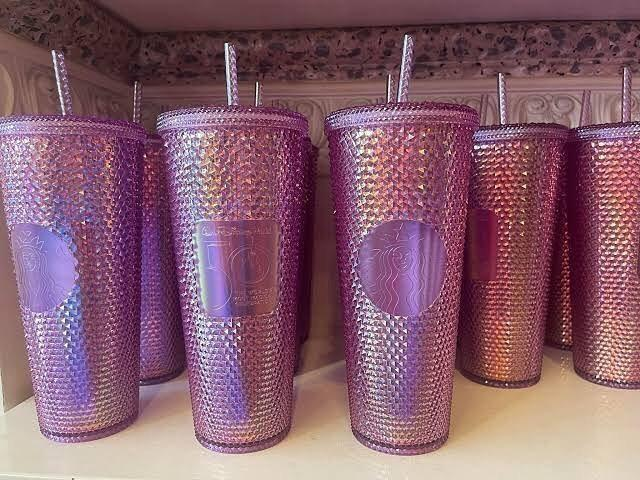cup-disposable: (325, 99, 481, 450), (158, 100, 306, 457), (2, 109, 149, 450), (459, 116, 575, 392), (565, 114, 640, 393)
